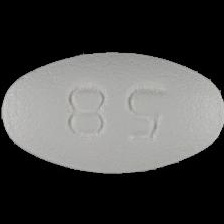0093-0058: (0, 0, 224, 224)
